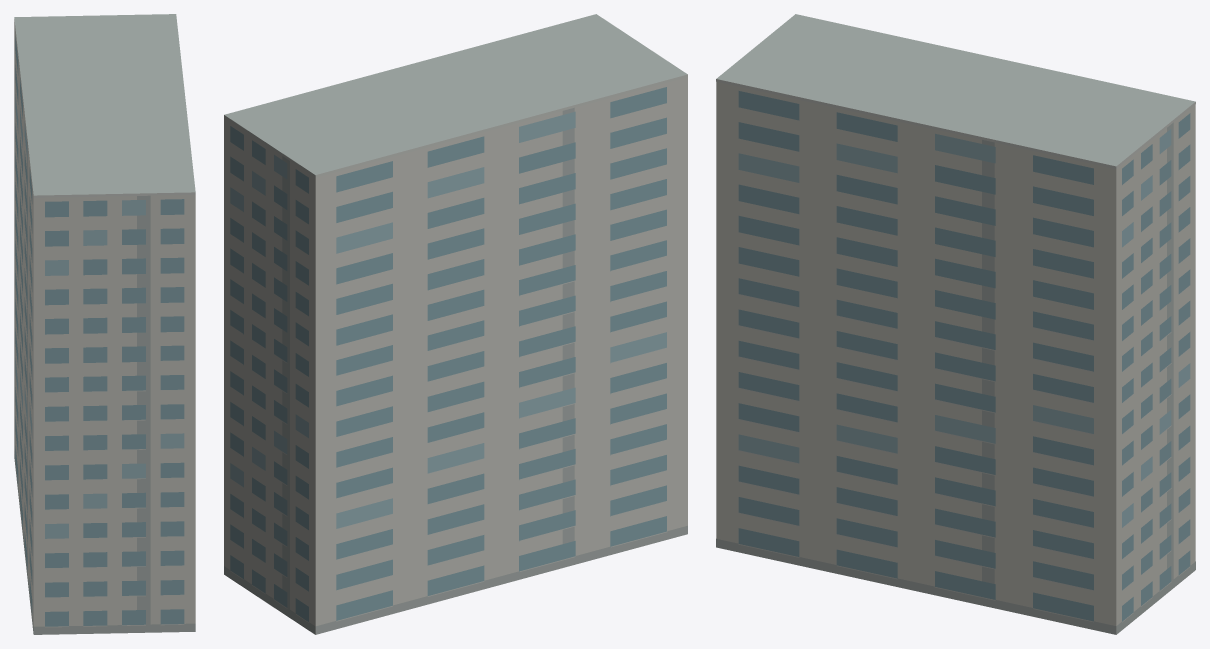
Rendered from residential-30e51d5e-c885-400a-9bb5-f216544837fb.glb.
3 views of the same model, side by side, from view 1: azimuth 30°, elevation 25°; view 2: azimuth 150°, elevation 25°; view 3: azimuth 270°, elevation 25° (orthographic). The views are drawn at different scales.
Parts seen in each view (by area): view 1: residential-30e51d5e-c885-400a-9bb5-f216544837fb.tmp; view 2: residential-30e51d5e-c885-400a-9bb5-f216544837fb.tmp; view 3: residential-30e51d5e-c885-400a-9bb5-f216544837fb.tmp.
Part boxes in pixels (box(x1,y1,x2,y2)): residential-30e51d5e-c885-400a-9bb5-f216544837fb.tmp: box(14, 14, 195, 634); residential-30e51d5e-c885-400a-9bb5-f216544837fb.tmp: box(224, 14, 687, 634); residential-30e51d5e-c885-400a-9bb5-f216544837fb.tmp: box(716, 14, 1195, 634).
Bounding box in the file's own units: 30.01 × 43 × 39.91.
